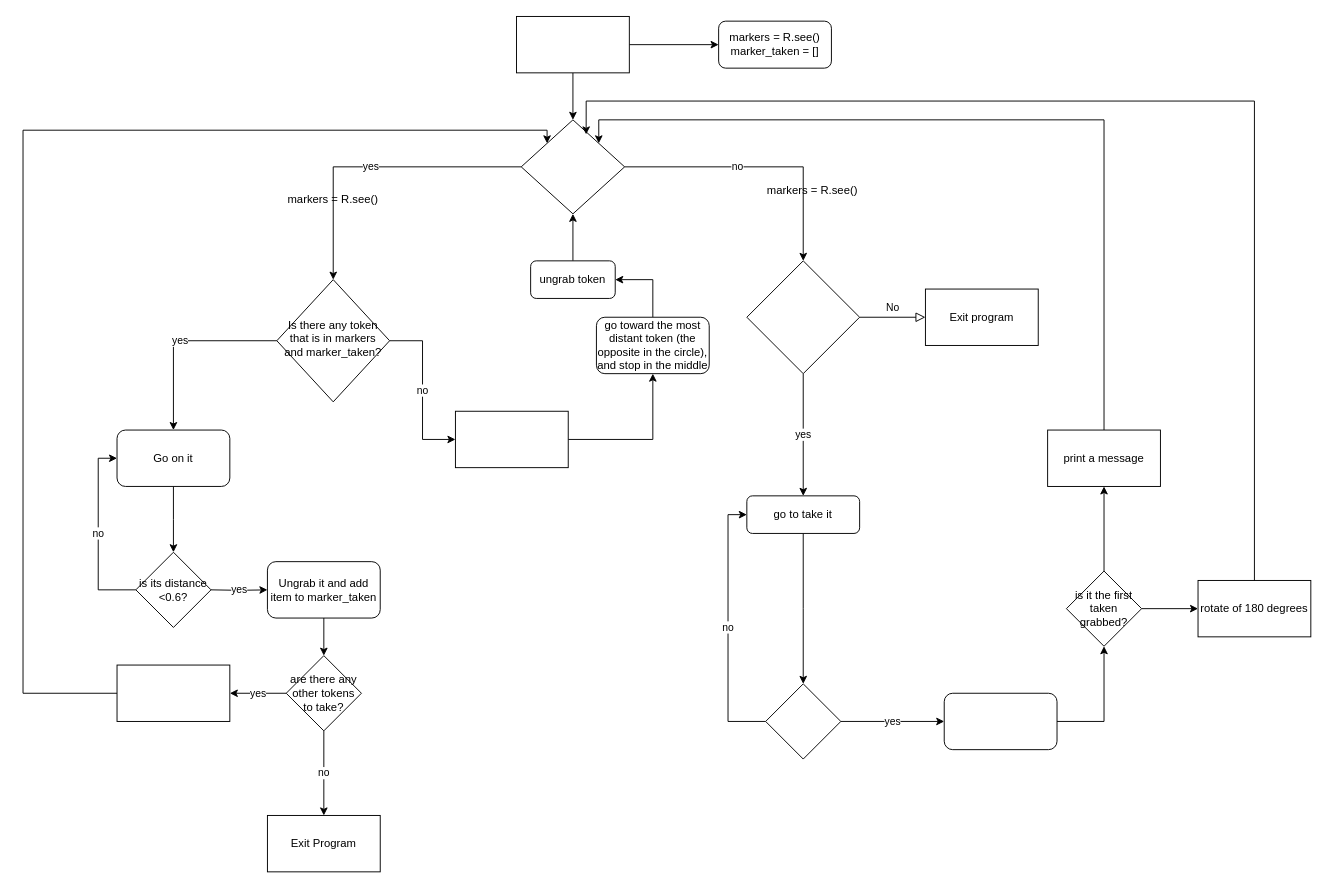
This 1327x888 diagram has some shape labels left out. The shapes that lost their labels are listed below. From the top down, each one's box as (x1, y1, x2, y2) in pixels, then its label:
(516, 16, 629, 73): ROBOT INITIALIZES
(520, 119, 625, 214): Is the robot grabbing a token?
(746, 260, 860, 374): Is there any token that is in markers but not in marker_taken?
(454, 410, 568, 468): Run starting cycle
(116, 664, 230, 721): start a new cycle
(765, 683, 841, 759): is its distance <0.4?
(943, 692, 1057, 750): grab it
